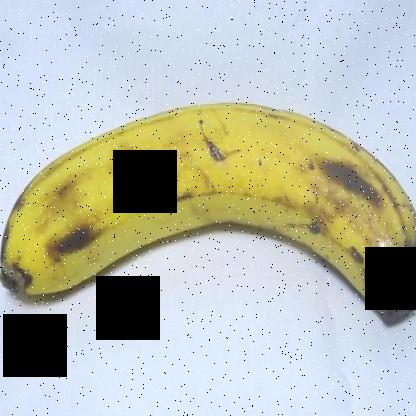ripe: (0, 86, 415, 348)
